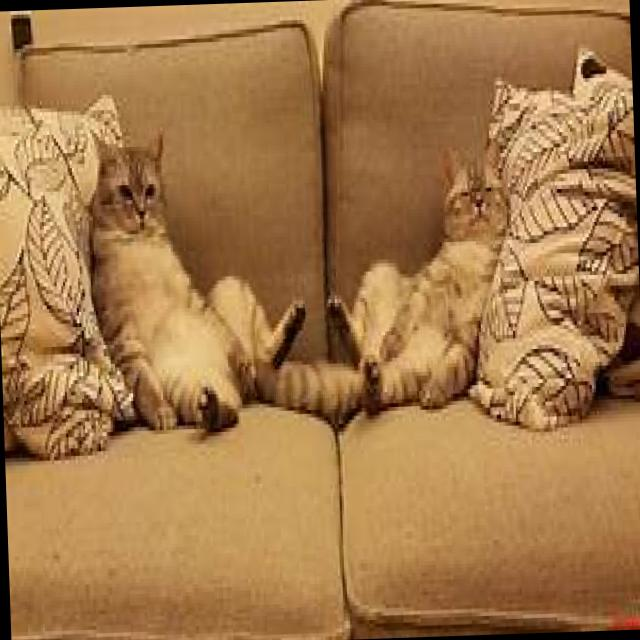cat: (86, 122, 310, 441), (323, 140, 515, 413)
